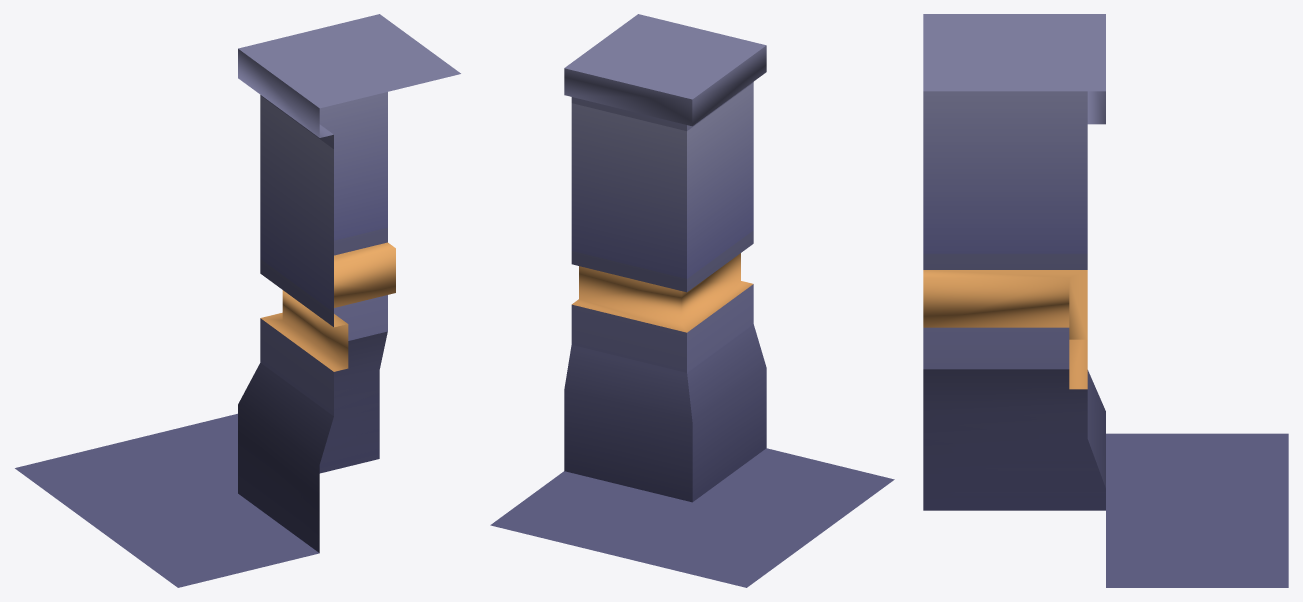
File: kenney-factory-structure-corner-outer.glb
The picture shows the model from 3 angles, left to right: view 1: azimuth 30°, elevation 25°; view 2: azimuth 150°, elevation 25°; view 3: azimuth 270°, elevation 25°; orthographic projection. The views are drawn at different scales.
Visible parts, largest first — view 1: structure-corner-outer; view 2: structure-corner-outer; view 3: structure-corner-outer.
Part boxes in pixels (x1,y1,x2,y2): structure-corner-outer: (15, 14, 460, 587); structure-corner-outer: (490, 14, 894, 587); structure-corner-outer: (923, 14, 1288, 587).
Bounding box in the file's own units: 3 × 4.5 × 3.
Materials: 1 (1 with a texture image).
